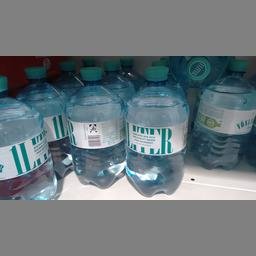water: (126, 64, 188, 197), (63, 66, 127, 188), (191, 58, 255, 172), (0, 74, 57, 199), (17, 65, 70, 174)
